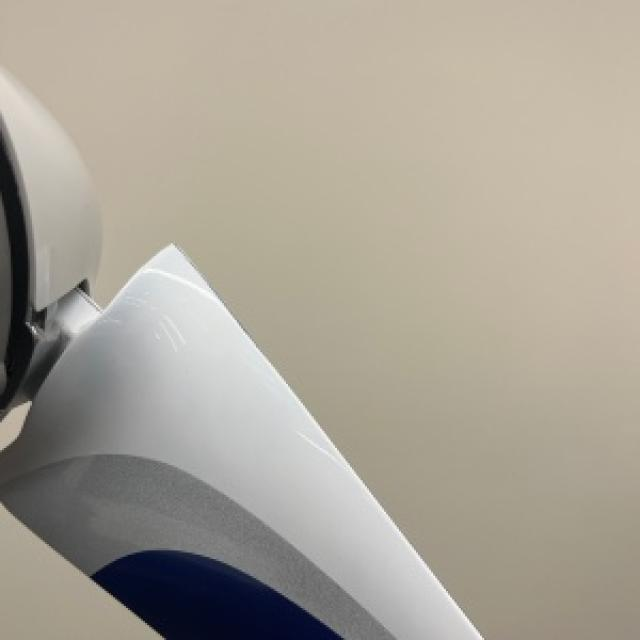healthy: (0, 0, 606, 544), (0, 68, 480, 638)
